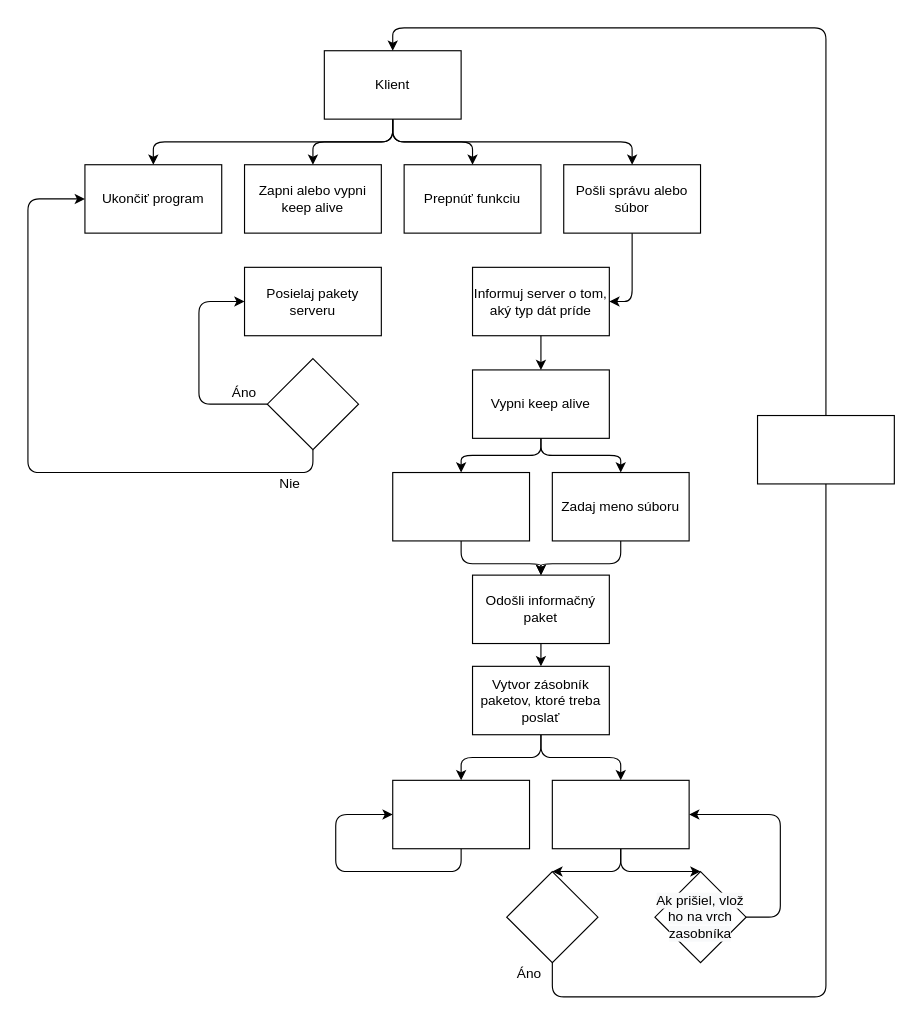
The diagram is 914 pixels wide and 1026 high, and some of its shapes have lost their labels. Here are the shapes that lost their labels. From the top down, the box of each, then its label:
(266, 357, 359, 450): Prišiel potvrdzovací paket?
(756, 414, 894, 484): Zapni keep alive ak bol pustený
(392, 471, 530, 541): Zadaj správu
(392, 779, 530, 849): Vytváraj dátove pakety a posielaj serveru
(551, 779, 689, 849): Počúvaj od servera o zlých paketoch
(506, 870, 598, 963): Prišiel ukončovací paket
